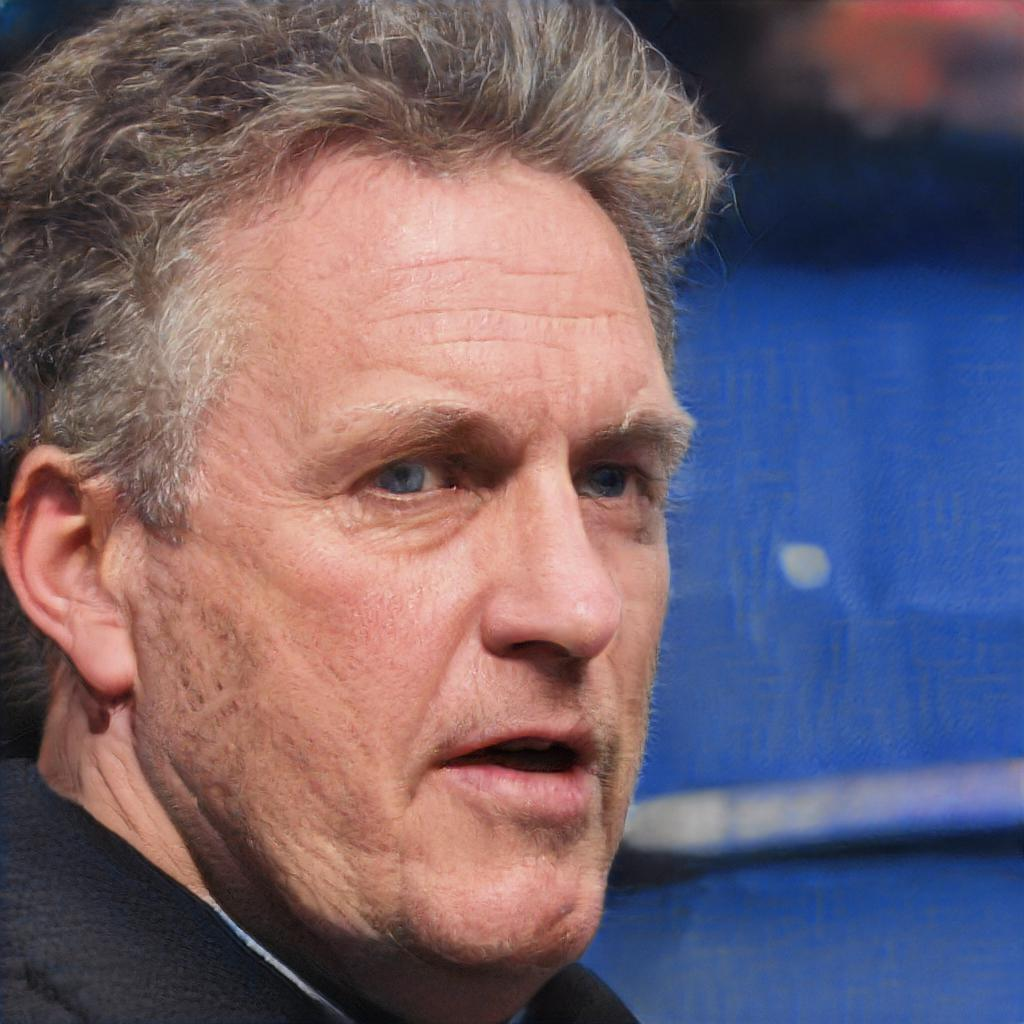face: (136, 146, 696, 964)
